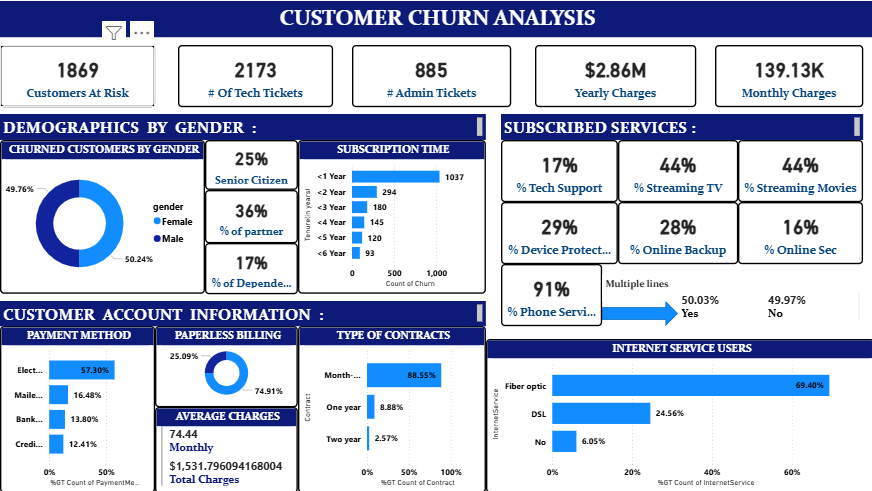

The page's visual inventory and layout, read from the dashboard file:
{"tool":"powerbi","page":{"name":"Churn Dashboard","canvas":[1280,720],"ordinal":0},"visuals":[{"type":"textbox","box":[0,0,1280.5,52.7],"z":0},{"type":"card","fields":{"Values":["Count(Churn.customerID)"]},"box":[0,64.4,226.8,90.7],"z":1000},{"type":"card","fields":{"Values":["Sum(Churn.numTechTickets)"]},"box":[260.5,64.4,226.8,90.7],"z":2000},{"type":"card","fields":{"Values":["Sum(Churn.numAdminTickets)"]},"box":[515.1,64.4,232.7,90.7],"z":3000},{"type":"card","fields":{"Values":["Sum(Churn.TotalCharges)"]},"box":[782.9,64.4,235.6,90.7],"z":4000},{"type":"card","fields":{"Values":["Sum(Churn.MonthlyCharges)"]},"box":[1046.3,64.4,216.6,90.7],"z":5000},{"type":"donutChart","title":"CHURNED CUSTOMERS BY GENDER","fields":{"Y":["CountNonNull(Churn.gender)"],"Category":["Churn.gender"]},"box":[0,203.4,300,225.4],"z":6000},{"type":"card","fields":{"Values":["Churn.Senior Citizen"]},"box":[300,203.4,136.1,73.2],"z":7000},{"type":"card","fields":{"Values":["Churn.% of Dependents"]},"box":[300,354.1,136.1,74.6],"z":8000},{"type":"card","fields":{"Values":["Churn.% of partner"]},"box":[300,276.6,136.1,77.6],"z":9000},{"type":"clusteredBarChart","title":"SUBSCRIPTION TIME","fields":{"Y":["CountNonNull(Churn.Churn)"],"Category":["Churn.Tenure(in years)"]},"box":[436.1,203.4,275.1,225.4],"z":10000},{"type":"clusteredBarChart","title":"PAYMENT METHOD","fields":{"Category":["Churn.PaymentMethod"],"Y":["CountNonNull(Churn.PaymentMethod)"]},"box":[0,475.6,226.8,244.4],"z":11000},{"type":"clusteredBarChart","title":"TYPE OF CONTRACTS","fields":{"Category":["Churn.Contract"],"Y":["CountNonNull(Churn.Contract)"]},"box":[436.1,475.6,275.1,244.4],"z":12000},{"type":"donutChart","title":"PAPERLESS BILLING","fields":{"Category":["Churn.PaperlessBilling"],"Y":["CountNonNull(Churn.PaperlessBilling)"]},"box":[226.8,475.6,209.3,118.5],"z":13000},{"type":"multiRowCard","title":"AVERAGE CHARGES","fields":{"Values":["Avg(Churn.MonthlyCharges)","Avg(Churn.TotalCharges)"]},"box":[226.8,594.1,209.3,125.9],"z":14000},{"type":"textbox","box":[0,165.4,711.2,38],"z":15000},{"type":"textbox","box":[0,439,711.2,36.6],"z":16000},{"type":"clusteredBarChart","title":"INTERNET SERVICE USERS","fields":{"Category":["Churn.InternetService"],"Y":["CountNonNull(Churn.InternetService)"]},"box":[711.2,494.6,569.3,225.4],"z":17000},{"type":"card","fields":{"Values":["Churn.% Tech Support"]},"box":[733.2,203.4,171.2,90.7],"z":18000},{"type":"card","fields":{"Values":["Churn.% Streaming TV"]},"box":[904.4,203.4,175.6,90.7],"z":19000},{"type":"card","fields":{"Values":["Churn.% Streaming Movies"]},"box":[1080,203.4,182.9,90.7],"z":20000},{"type":"card","fields":{"Values":["Churn.% Device Protection"]},"box":[733.2,294.1,171.2,90.7],"z":21000},{"type":"card","fields":{"Values":["Churn.% Online Backup"]},"box":[904.4,294.1,175.6,90.7],"z":22000},{"type":"card","fields":{"Values":["Churn.% Online Sec"]},"box":[1080,294.1,182.9,90.7],"z":23000},{"type":"card","fields":{"Values":["Churn.% Phone Service"]},"box":[733.2,384.9,147.8,90.7],"z":24000},{"type":"multiRowCard","fields":{"Values":["Churn.% Yes-Multiple Lines","Churn.% No-Multiple Lines"]},"box":[992.2,421.5,270.7,54.1],"z":25000},{"type":"shape","box":[881,439,111.2,36.6],"z":26000},{"type":"textbox","box":[881,399.5,111.2,39.5],"z":27000},{"type":"textbox","box":[733.2,165.4,529.8,38],"z":28000}]}

Visuals, with their boxes in screenshot pixels (x1, y1, x2, y2), scaled from the page's 1280x720 canvas onto the 872x491 screenshot:
textbox: [left=0, top=0, right=871, bottom=36]
card - Count(Churn.customerID): [left=0, top=44, right=155, bottom=106]
card - Sum(Churn.numTechTickets): [left=177, top=44, right=332, bottom=106]
card - Sum(Churn.numAdminTickets): [left=351, top=44, right=509, bottom=106]
card - Sum(Churn.TotalCharges): [left=533, top=44, right=694, bottom=106]
card - Sum(Churn.MonthlyCharges): [left=713, top=44, right=860, bottom=106]
"CHURNED CUSTOMERS BY GENDER" donutChart: [left=0, top=139, right=204, bottom=292]
card - Churn.Senior Citizen: [left=204, top=139, right=297, bottom=189]
card - Churn.% of Dependents: [left=204, top=241, right=297, bottom=292]
card - Churn.% of partner: [left=204, top=189, right=297, bottom=242]
"SUBSCRIPTION TIME" clusteredBarChart: [left=297, top=139, right=485, bottom=292]
"PAYMENT METHOD" clusteredBarChart: [left=0, top=324, right=155, bottom=490]
"TYPE OF CONTRACTS" clusteredBarChart: [left=297, top=324, right=485, bottom=490]
"PAPERLESS BILLING" donutChart: [left=155, top=324, right=297, bottom=405]
"AVERAGE CHARGES" multiRowCard: [left=155, top=405, right=297, bottom=490]
textbox: [left=0, top=113, right=485, bottom=139]
textbox: [left=0, top=299, right=485, bottom=324]
"INTERNET SERVICE USERS" clusteredBarChart: [left=485, top=337, right=871, bottom=490]
card - Churn.% Tech Support: [left=499, top=139, right=616, bottom=201]
card - Churn.% Streaming TV: [left=616, top=139, right=736, bottom=201]
card - Churn.% Streaming Movies: [left=736, top=139, right=860, bottom=201]
card - Churn.% Device Protection: [left=499, top=201, right=616, bottom=262]
card - Churn.% Online Backup: [left=616, top=201, right=736, bottom=262]
card - Churn.% Online Sec: [left=736, top=201, right=860, bottom=262]
card - Churn.% Phone Service: [left=499, top=262, right=600, bottom=324]
multiRowCard - Churn.% Yes-Multiple Lines x Churn.% No-Multiple Lines: [left=676, top=287, right=860, bottom=324]
shape: [left=600, top=299, right=676, bottom=324]
textbox: [left=600, top=272, right=676, bottom=299]
textbox: [left=499, top=113, right=860, bottom=139]
